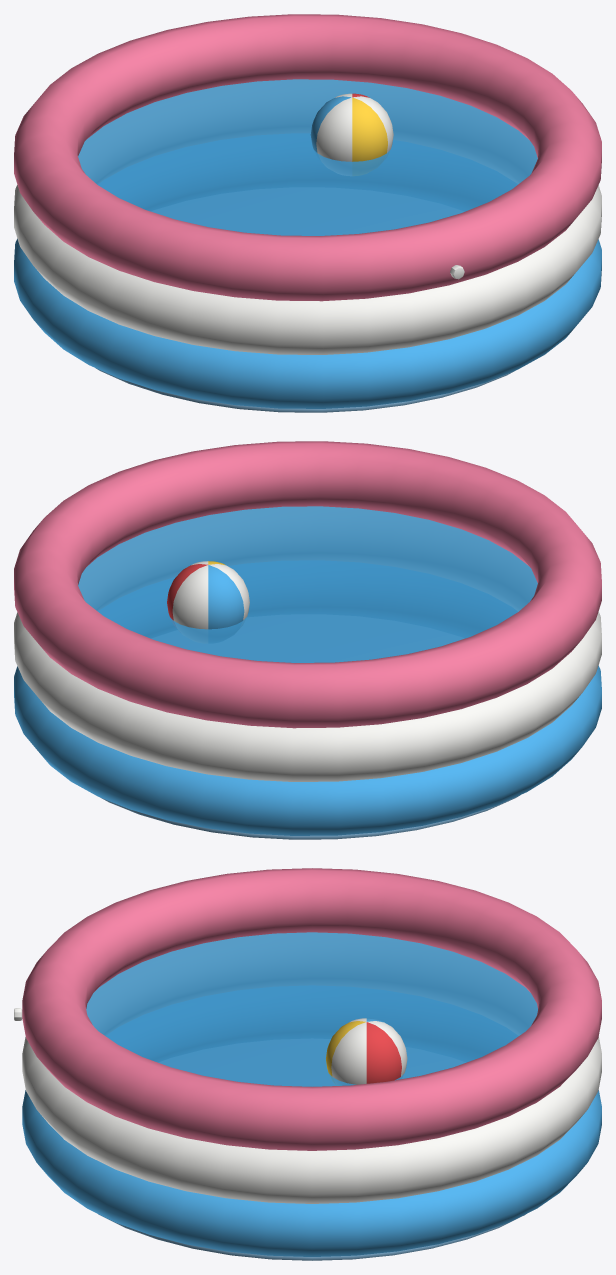
Rendered from piscina_inflavel.glb.
3 views of the same model, one above another, from view 1: azimuth 30°, elevation 25°; view 2: azimuth 150°, elevation 25°; view 3: azimuth 270°, elevation 25° (orthographic).
Parts seen in each view (by area): view 1: piscina_inflavel, bola; view 2: piscina_inflavel, bola; view 3: piscina_inflavel, bola.
Boxes of the visible parts, left/top/right/bottom form: piscina_inflavel: left=14, top=14, right=601, bottom=412; bola: left=310, top=93, right=393, bottom=161; piscina_inflavel: left=14, top=441, right=601, bottom=839; bola: left=167, top=561, right=249, bottom=629; piscina_inflavel: left=14, top=868, right=601, bottom=1260; bola: left=326, top=1018, right=407, bottom=1084.
Size of the model in its own units: 2.13 by 0.69 by 2.16.
Materials: 2 (1 with a texture image).
